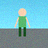person: (15, 8, 30, 36)
